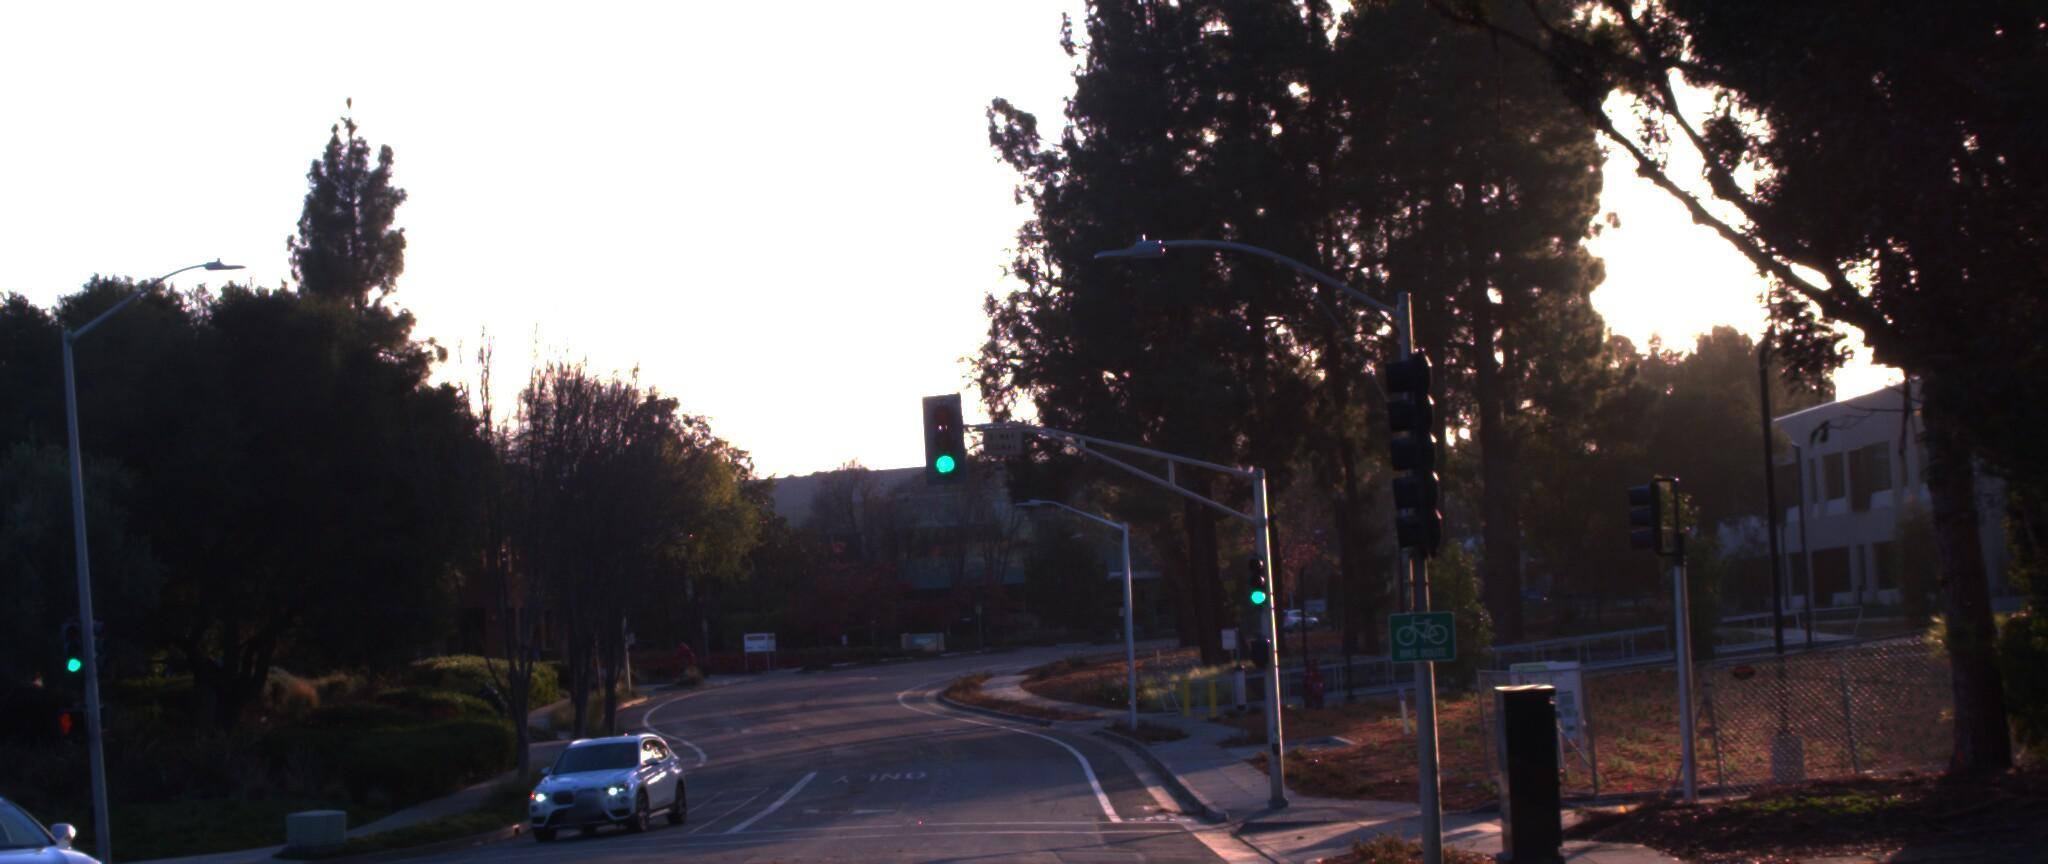car: (507, 689, 694, 814), (0, 747, 137, 864)
